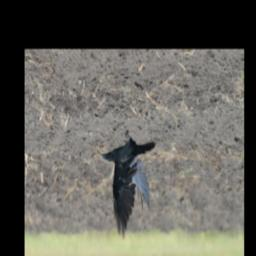Crow: (99, 128, 157, 241)
